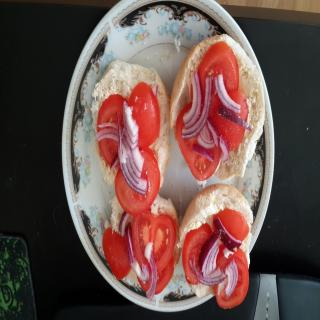tomato: (174, 104, 222, 179), (132, 205, 176, 274), (190, 40, 238, 101), (115, 146, 159, 212), (96, 92, 128, 165), (214, 245, 248, 308), (127, 82, 160, 145), (182, 223, 211, 284), (136, 254, 175, 293), (211, 210, 250, 247)
